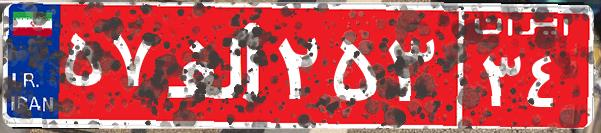2: (273, 28, 330, 110)
3: (385, 28, 445, 110), (475, 38, 525, 113)
4: (525, 38, 570, 115)
5: (330, 28, 385, 110), (57, 26, 110, 107)
7: (110, 28, 158, 105)
الف: (158, 15, 273, 115)
